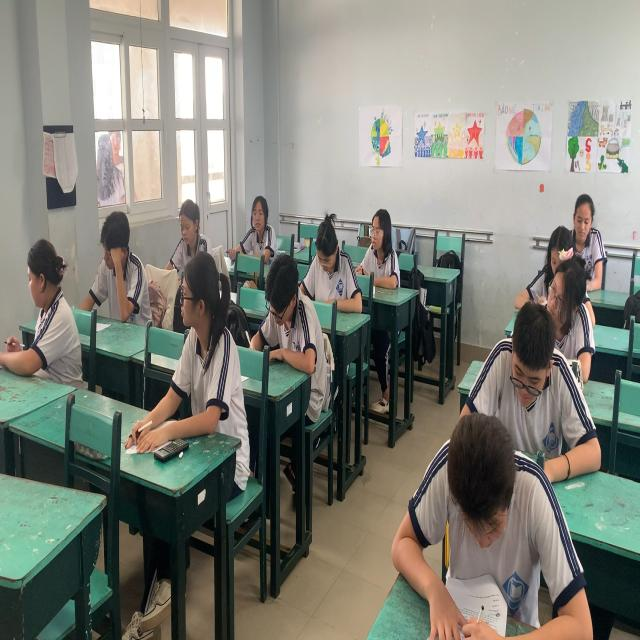cheating: (174, 245, 243, 458), (16, 229, 81, 388)
not_cheating: (424, 403, 550, 603), (485, 299, 564, 429), (258, 245, 323, 387), (89, 202, 151, 335), (533, 241, 585, 353), (305, 203, 353, 312), (359, 189, 398, 299), (569, 181, 609, 286), (167, 188, 207, 284), (238, 174, 274, 268)
